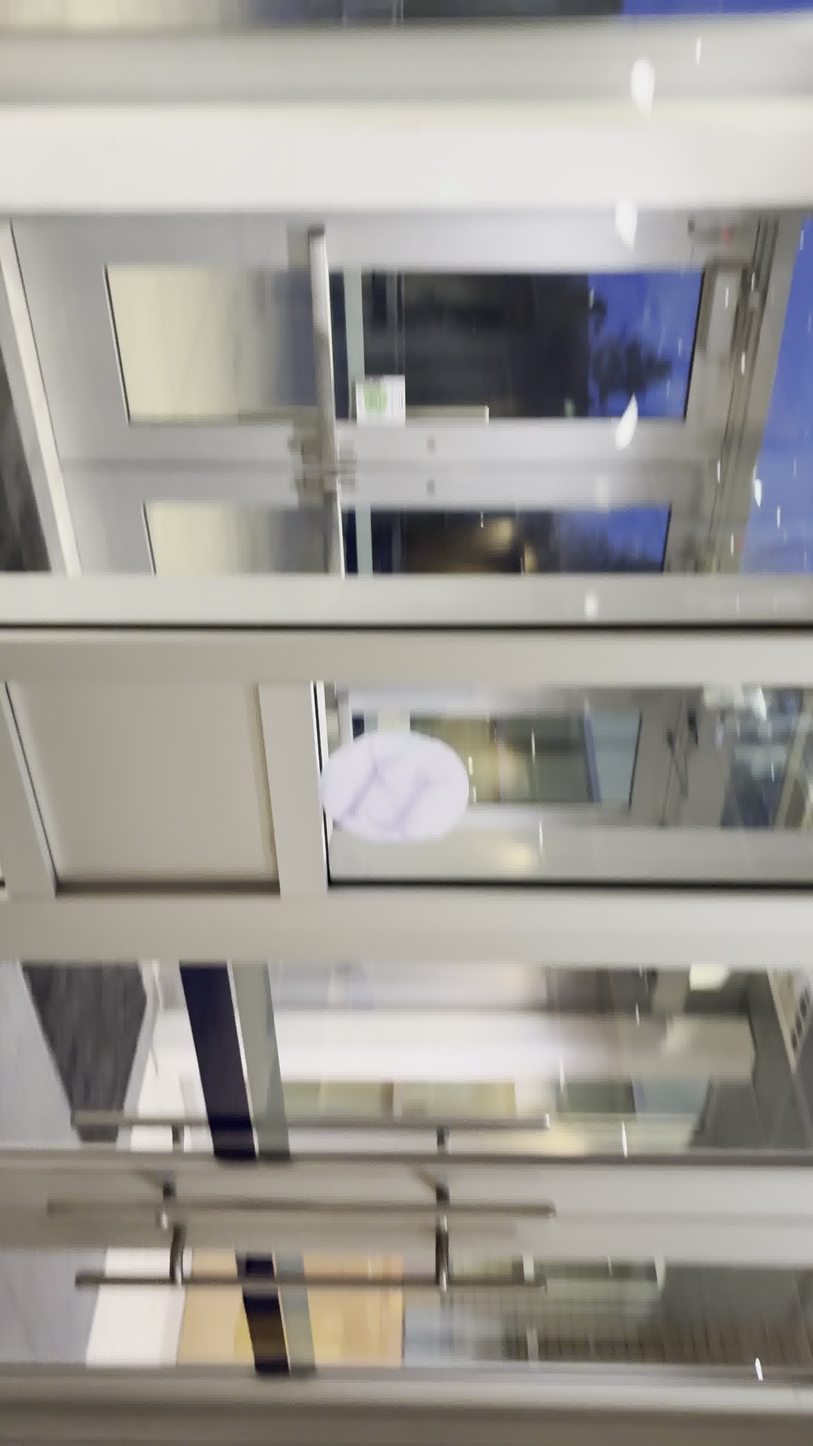Target: (316, 729, 470, 844)
